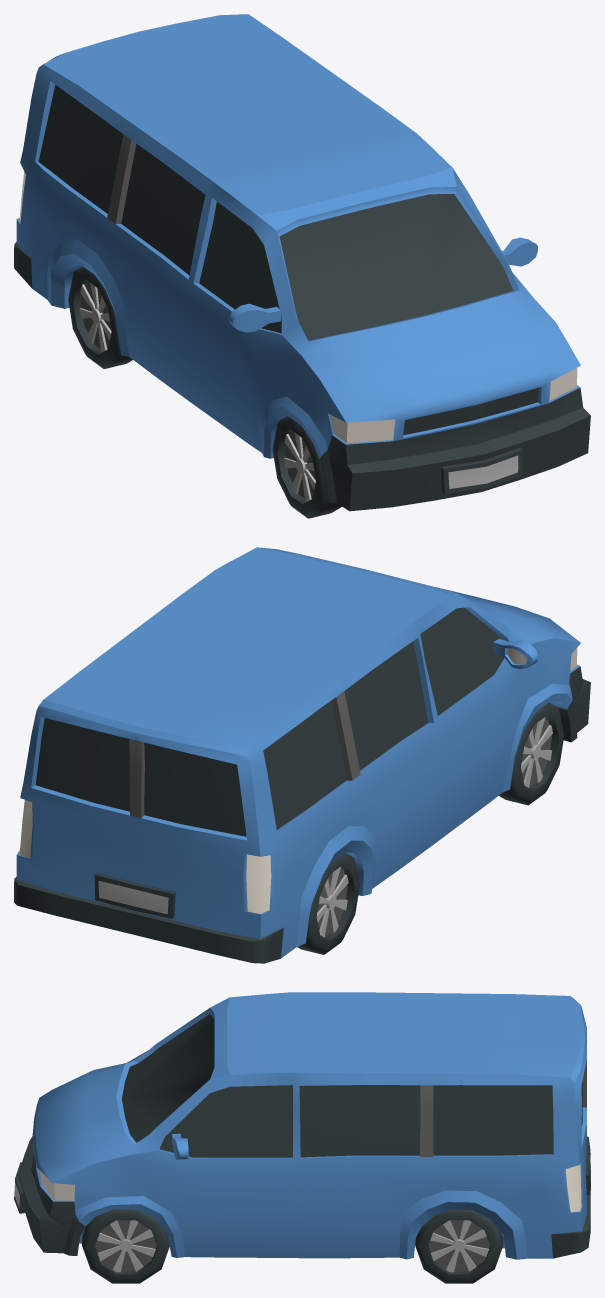
The model's file is Car_04.fbx.
3 views of the same model, one above another, from view 1: azimuth 30°, elevation 25°; view 2: azimuth 150°, elevation 25°; view 3: azimuth 270°, elevation 25° (orthographic). The views are drawn at different scales.
Visible parts, largest first — view 1: Car_04, Car_04_Front_Right, Car_04_Back_Right; view 2: Car_04, Car_04_Front_Right, Car_04_Back_Right; view 3: Car_04, Car_04_Front_Left, Car_04_Back_Left.
Boxes of the visible parts, x1,y1,x2,y2 form: Car_04: [14, 14, 590, 511]; Car_04_Front_Right: [272, 416, 342, 518]; Car_04_Back_Right: [68, 267, 132, 368]; Car_04: [14, 547, 590, 963]; Car_04_Front_Right: [499, 702, 564, 805]; Car_04_Back_Right: [297, 852, 359, 954]; Car_04: [14, 992, 590, 1259]; Car_04_Front_Left: [82, 1209, 169, 1283]; Car_04_Back_Left: [415, 1209, 503, 1283].
Bounding box in the file's own units: 0.2033 × 0.1597 × 0.4089.
